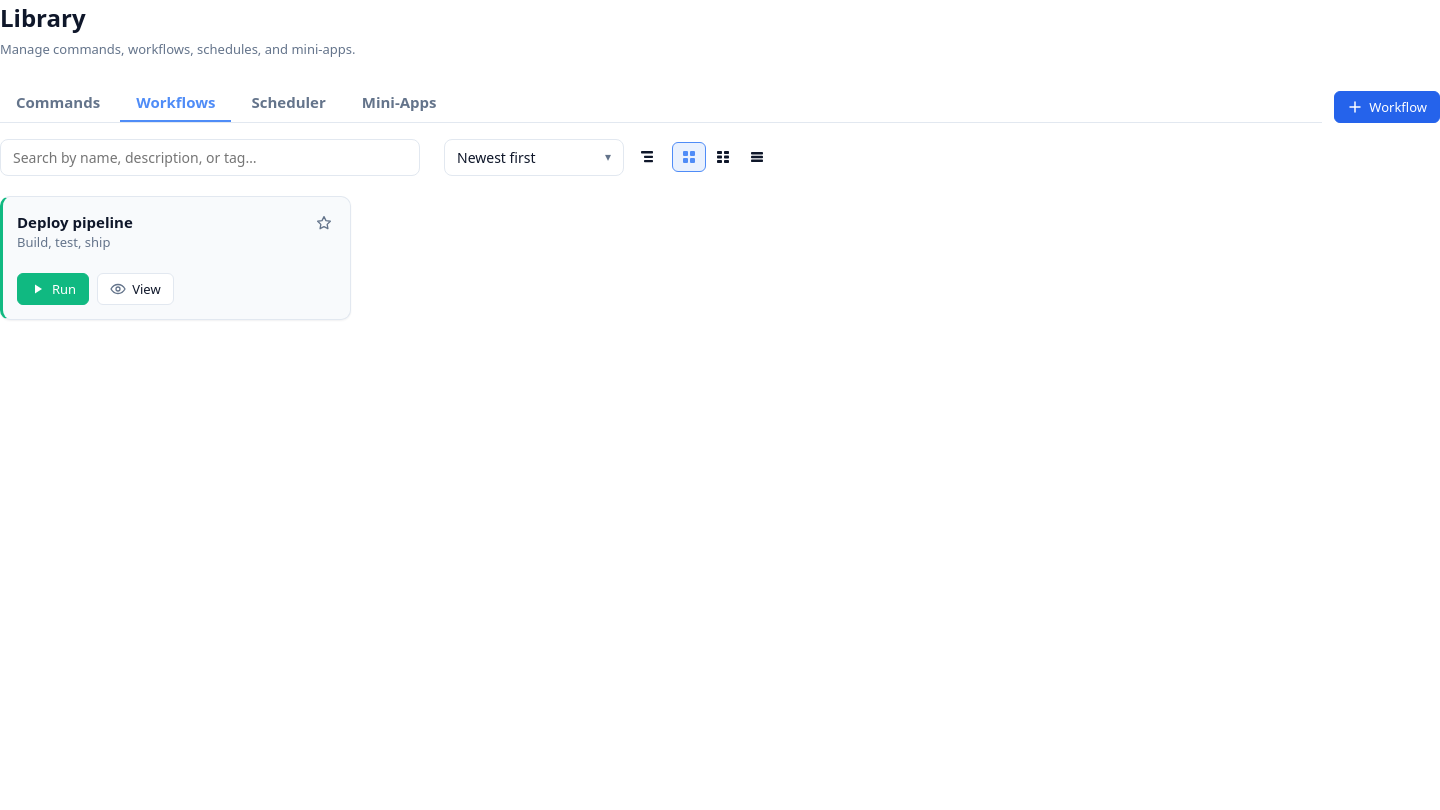
Test case: Library tabs › View on a workflow card opens the read-only view modal
The image size is (1440, 810).
Click the button "View" at {"x": 135, "y": 288}, box [97,272,174,304]
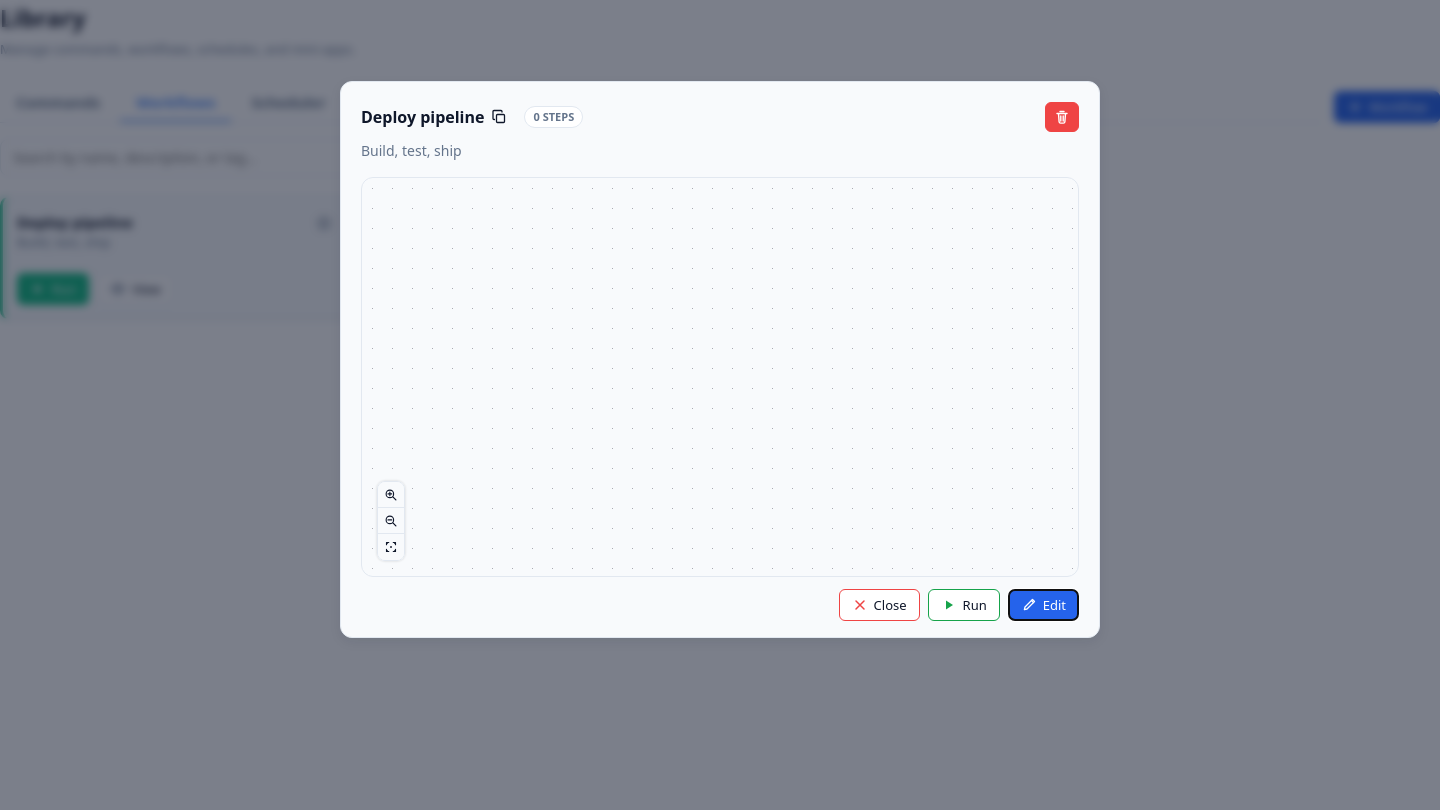
Expected: the dialog is shown, [340,81,1100,638]
